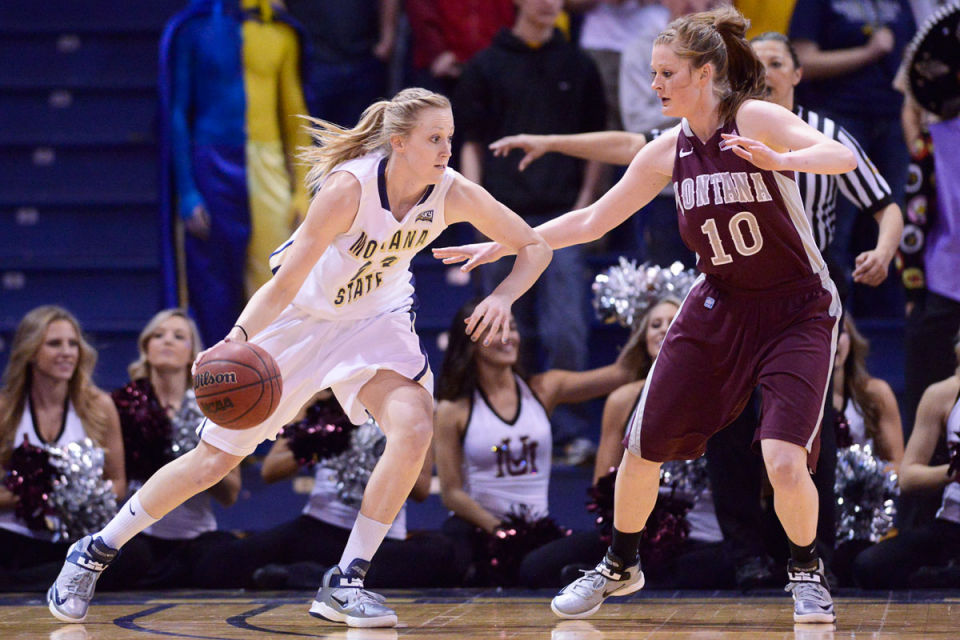basketball: (188, 332, 284, 433)
basketball player: (543, 16, 854, 640), (282, 84, 543, 636)
